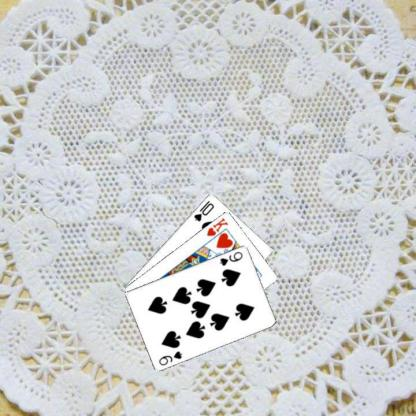10S: (191, 198, 216, 222)
9S: (217, 249, 244, 267), (157, 348, 183, 366)
KH: (204, 215, 229, 237)
